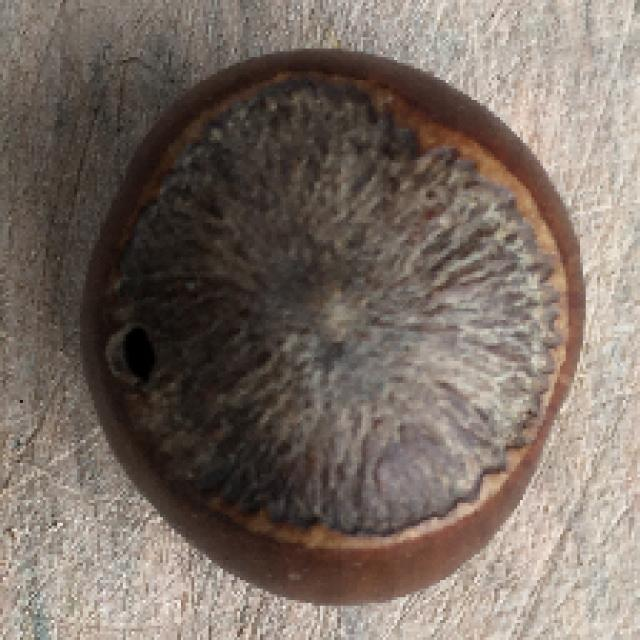DamagedHazelnut: (81, 53, 589, 596)
